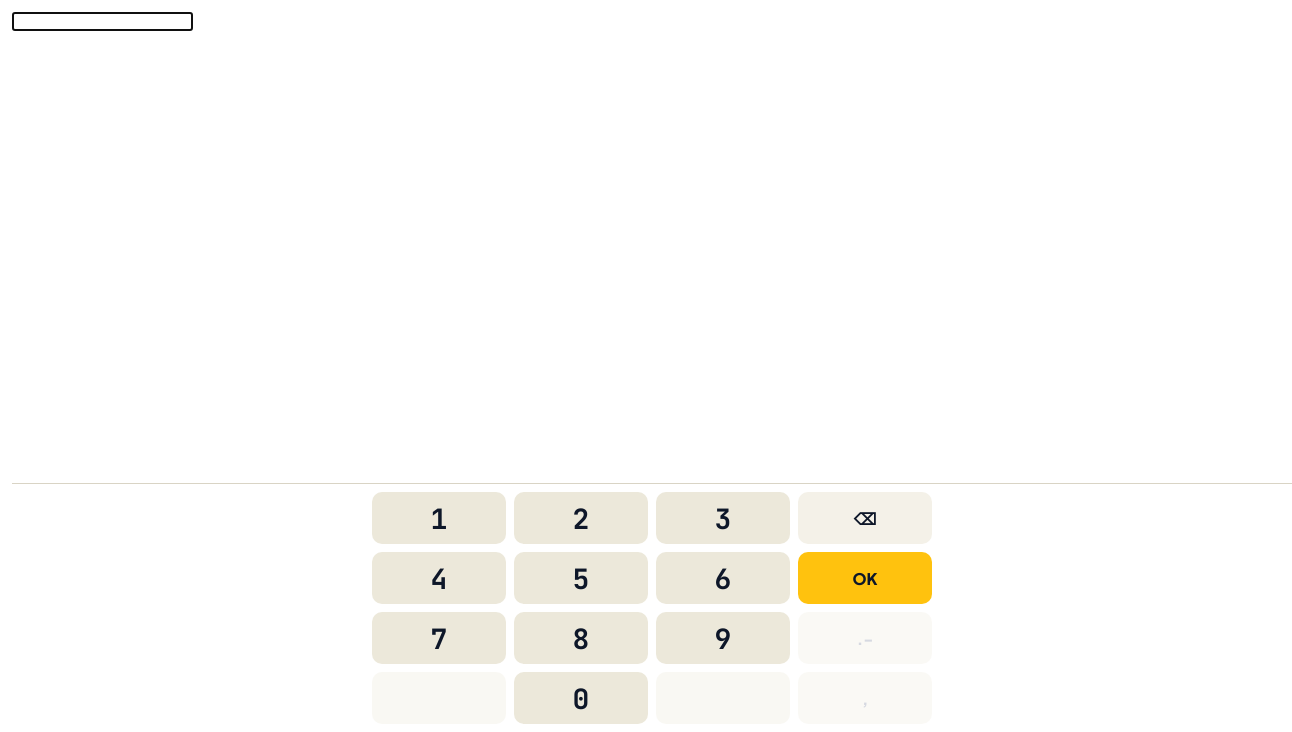
TecladoProvider › digita e apaga no campo pelas teclas
Click the button "1" at (439, 518), box [372,492,506,544]
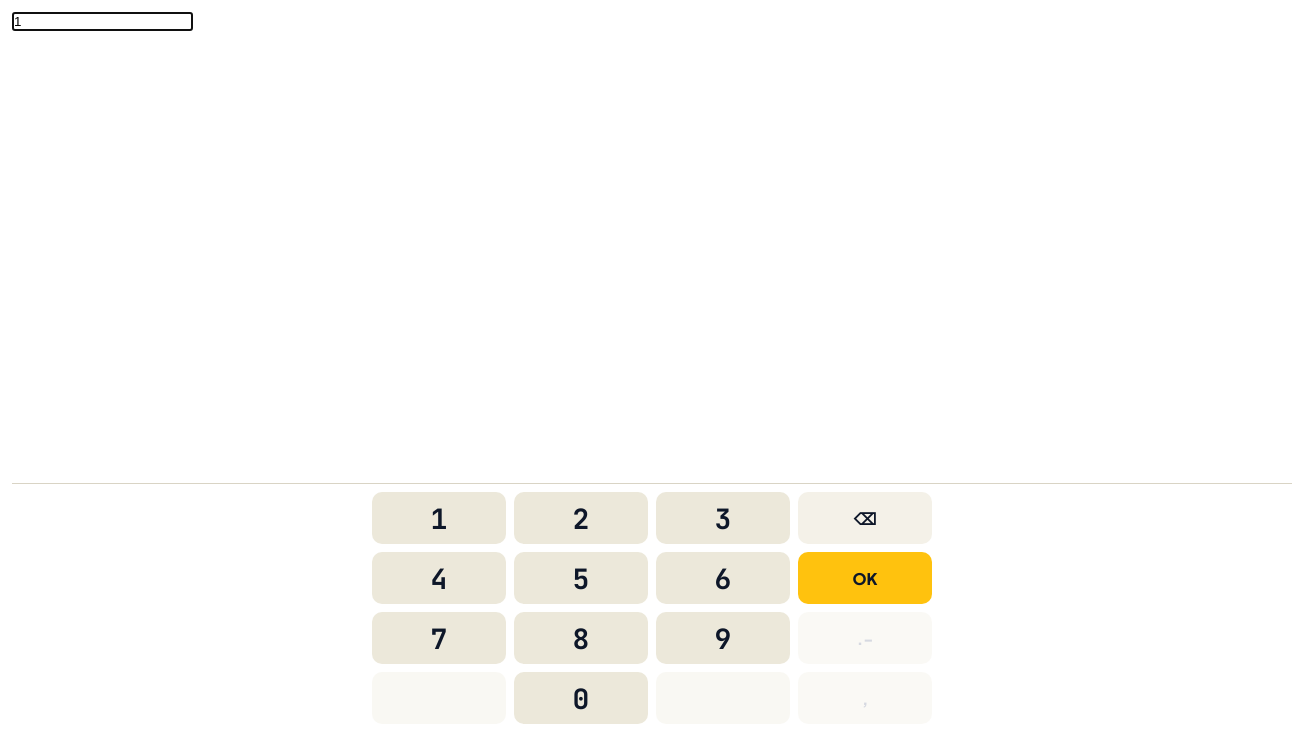
Click the button "2" at (581, 518), box [514,492,648,544]
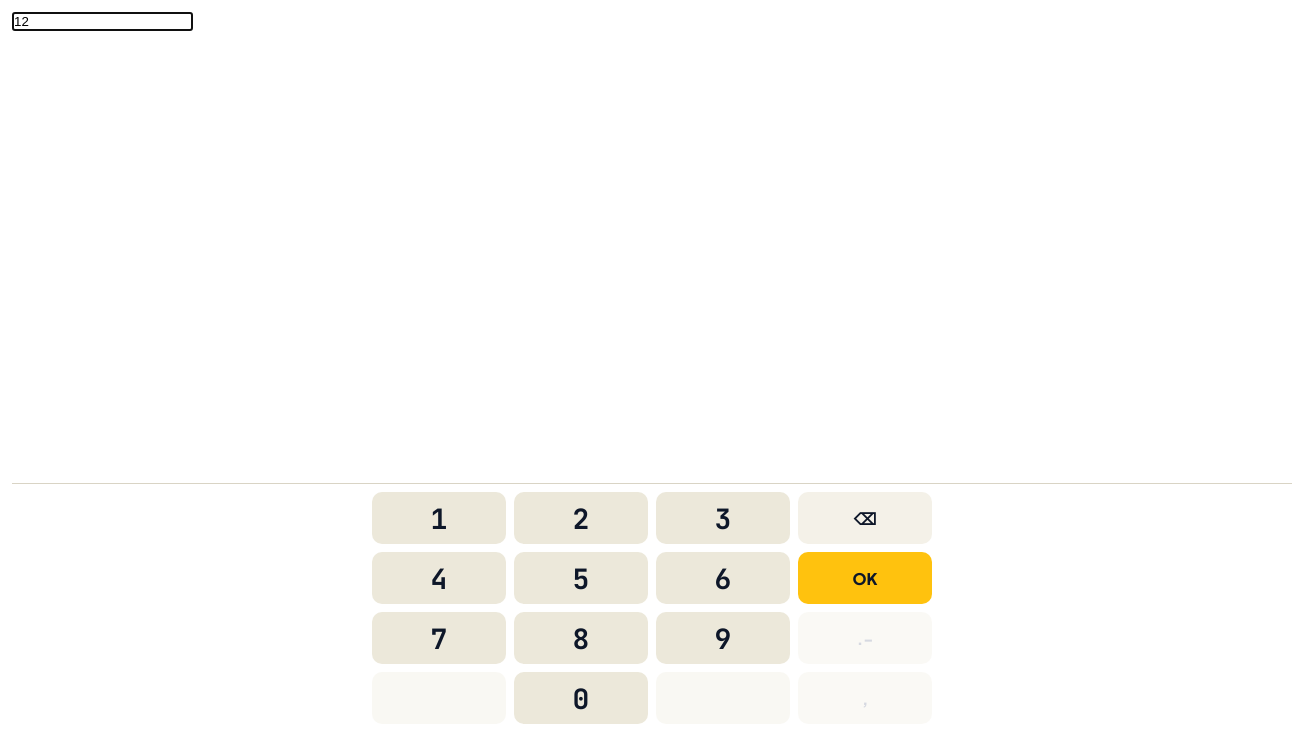
Click the button "3" at (723, 518), box [656,492,790,544]
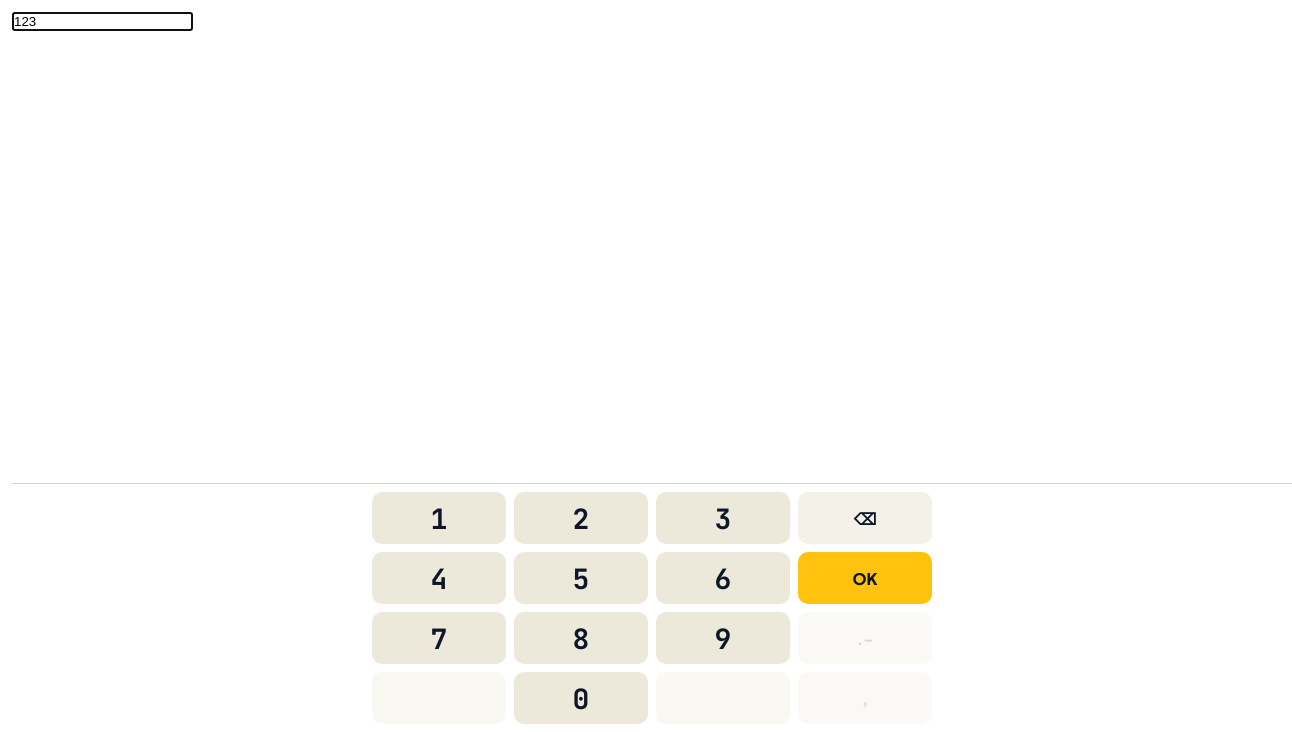
Check: the field named "valor" holds "123", box [12,12,193,31]
Click the button named "Apagar" at (865, 518), box [798,492,932,544]
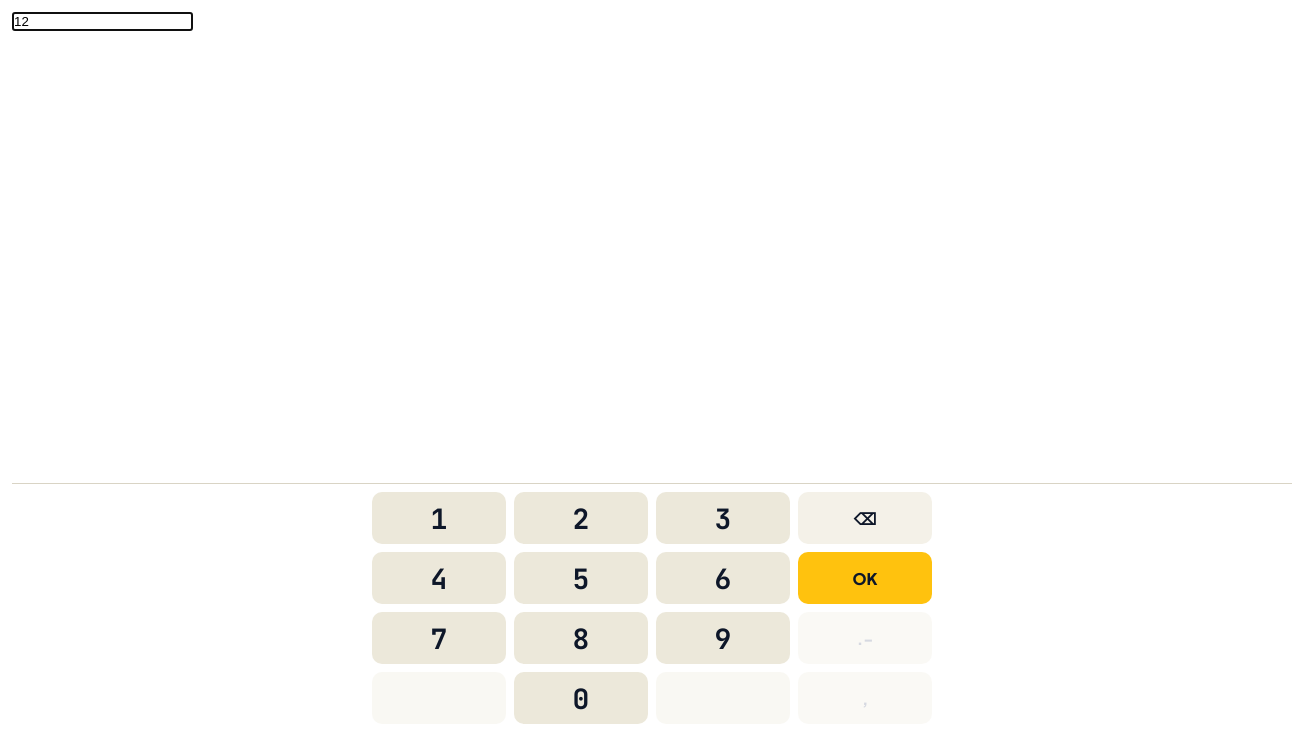
Check: the field named "valor" holds "12", box [12,12,193,31]
